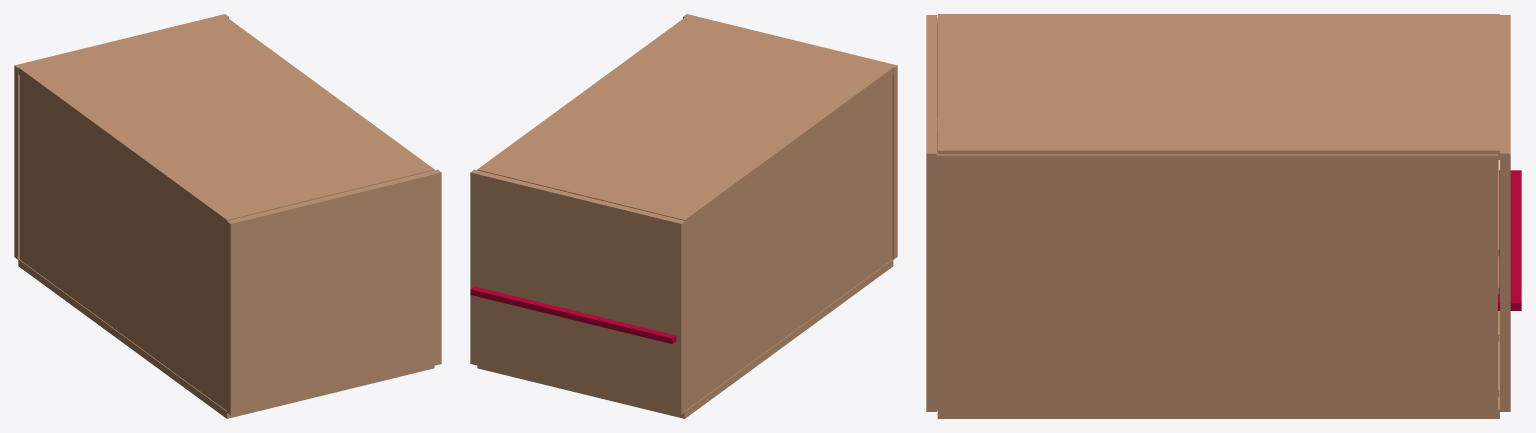
The model's file is interior.fbx.
The picture shows the model from 3 angles, left to right: view 1: azimuth 30°, elevation 25°; view 2: azimuth 150°, elevation 25°; view 3: azimuth 270°, elevation 25°; orthographic projection. The views are drawn at different scales.
Visible parts, largest first — view 1: pCube211, pCube163, pCube162, pCube25; view 2: pCube211, pCube163, pCube162, pCube25, pCube164; view 3: pCube162, pCube211, pCube163, pCube25, pCube164.
Part boxes in pixels (x1=…): pCube211: x1=18, y1=17, x2=434, y2=226; pCube163: x1=14, y1=14, x2=441, y2=415; pCube162: x1=20, y1=76, x2=226, y2=410; pCube25: x1=18, y1=259, x2=434, y2=418; pCube211: x1=477, y1=17, x2=893, y2=226; pCube163: x1=470, y1=14, x2=897, y2=414; pCube162: x1=685, y1=75, x2=892, y2=410; pCube25: x1=477, y1=259, x2=893, y2=418; pCube164: x1=470, y1=286, x2=676, y2=343; pCube162: x1=937, y1=18, x2=1497, y2=410; pCube211: x1=937, y1=14, x2=1499, y2=159; pCube163: x1=926, y1=15, x2=1510, y2=411; pCube25: x1=937, y1=311, x2=1499, y2=418; pCube164: x1=1498, y1=170, x2=1521, y2=310.
Size of the model in its own units: 22.82 by 20.56 by 41.33.
